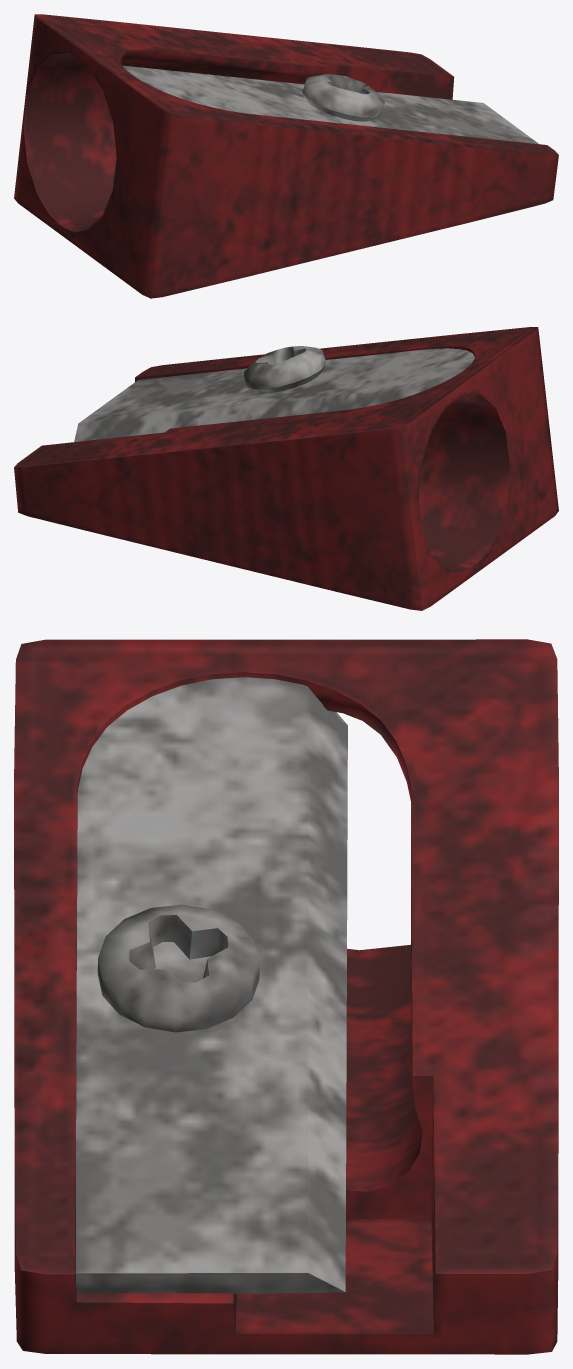
The model's file is sharpener.fbx.
3 renders of one model, top to bottom at view 1: azimuth 30°, elevation 25°; view 2: azimuth 150°, elevation 25°; view 3: azimuth 270°, elevation 25°, orthographic. The views are drawn at different scales.
Parts seen in each view (by area): view 1: Sharpener; view 2: Sharpener; view 3: Sharpener.
Boxes of the visible parts, x1,y1,x2,y2 form: Sharpener: (14,14,558,298); Sharpener: (14,327,558,610); Sharpener: (14,639,558,1354).
Bounding box in the file's own units: 3.19 × 1.33 × 1.88.
